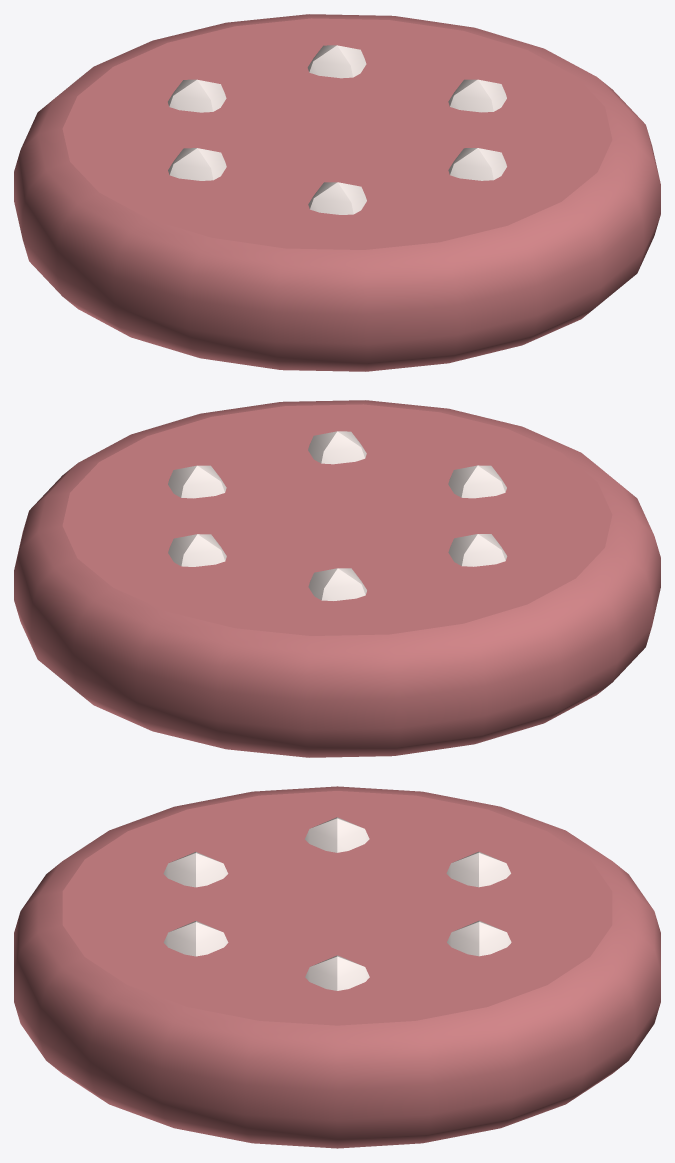
File: kr_patty_raw.glb
The picture shows the model from 3 angles, top to bottom: view 1: azimuth 30°, elevation 25°; view 2: azimuth 150°, elevation 25°; view 3: azimuth 270°, elevation 25°; orthographic projection.
Visible parts, largest first — view 1: vc_m0_r6, vc_m0_r4; view 2: vc_m0_r6, vc_m0_r4; view 3: vc_m0_r6, vc_m0_r4.
Boxes of the visible parts, <box> form: vc_m0_r6: <box>14,14,660,371</box>; vc_m0_r4: <box>168,45,506,214</box>; vc_m0_r6: <box>14,400,660,757</box>; vc_m0_r4: <box>168,431,507,600</box>; vc_m0_r6: <box>14,786,660,1148</box>; vc_m0_r4: <box>163,817,511,990</box>.
Size of the model in its own units: 0.2 by 0.047 by 0.198.
